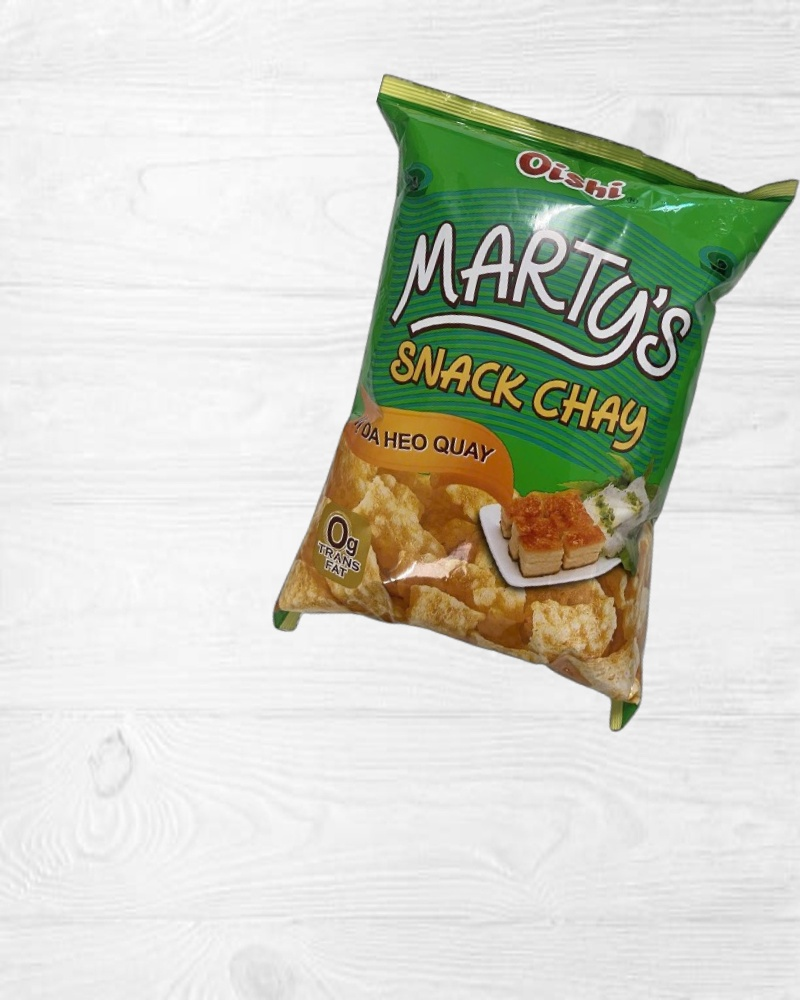Snack chay: (235, 70, 800, 742)
